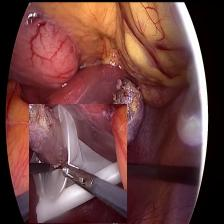Grasper: (58, 158, 94, 192)
Specimen Bag: (28, 103, 126, 222)
